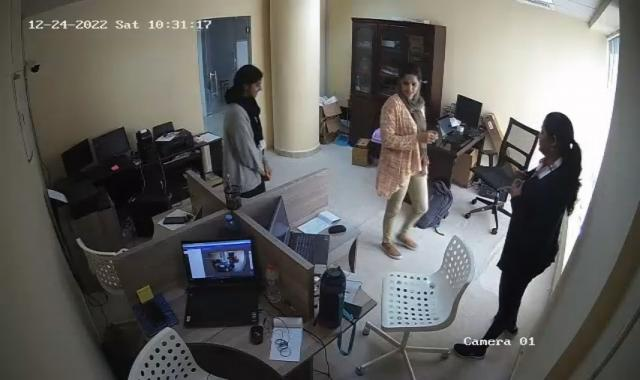no_hairnet: (536, 99, 574, 159), (233, 62, 264, 98), (393, 67, 418, 100)
